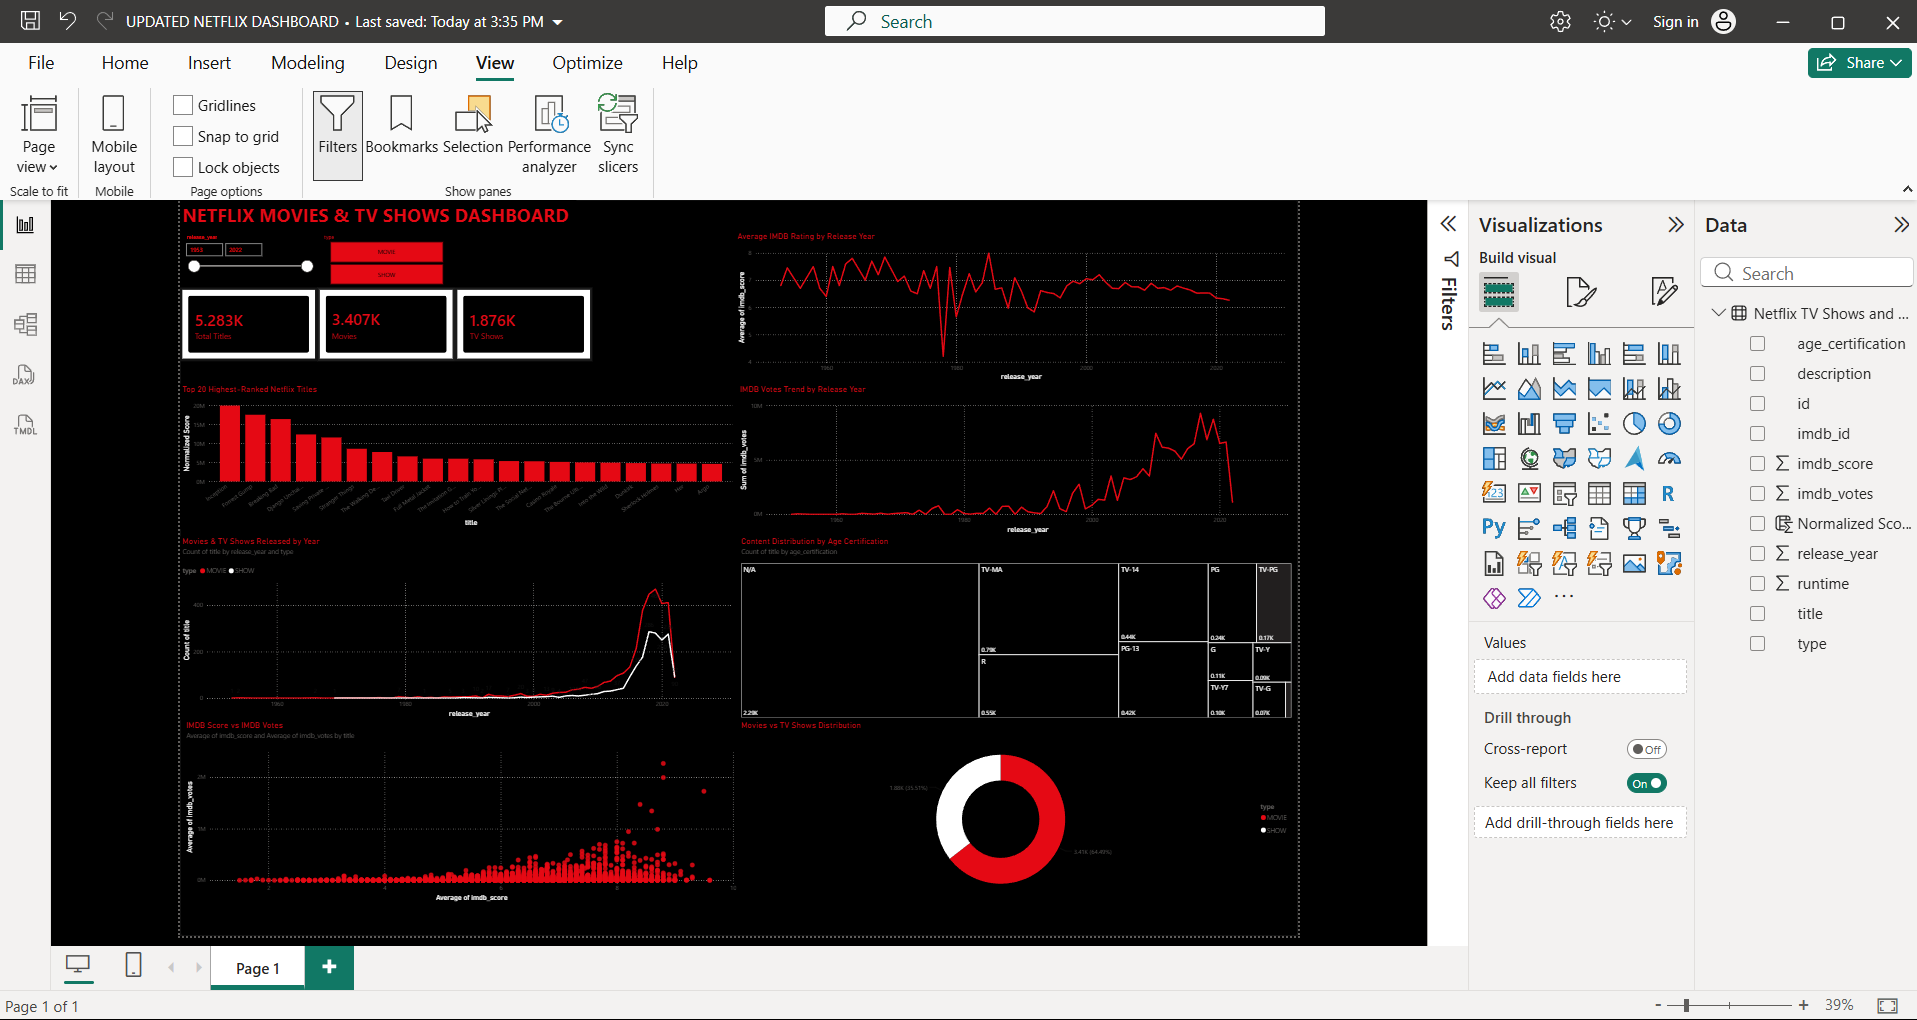

Layout of this report page (visuals, bound fields, positions):
{"tool":"powerbi","page":{"name":"Page 1","canvas":[2280,1500],"ordinal":0},"visuals":[{"type":"slicer","fields":{"Values":["Netflix TV Shows and Movies.release_year"]},"box":[0,62.5,279.9,115.3],"z":0},{"type":"slicer","fields":{"Values":["Netflix TV Shows and Movies.type"]},"box":[280,62.5,279.9,115.3],"z":1000},{"type":"columnChart","title":"Top 20 Highest-Ranked Netflix Titles","fields":{"Category":["Netflix TV Shows and Movies.title"],"Y":["Sum(Netflix TV Shows and Movies.Normalized Score)"]},"box":[0,374.2,1131,296],"z":2000},{"type":"lineChart","title":"Average IMDB Rating by Release Year","fields":{"Category":["Netflix TV Shows and Movies.release_year"],"Y":["Avg(Netflix TV Shows and Movies.imdb_score)"]},"box":[1131,63.4,1131.2,310],"z":3000},{"type":"lineChart","title":"IMDB Votes Trend by Release Year","fields":{"Category":["Netflix TV Shows and Movies.release_year"],"Y":["Sum(Netflix TV Shows and Movies.imdb_votes)"]},"box":[1135.2,374.2,1131.2,310],"z":4000},{"type":"textbox","box":[0,0,808.3,63.3],"z":5000},{"type":"cardVisual","fields":{"Data":["CountNonNull(Netflix TV Shows and Movies.title)"]},"box":[0,178.3,280,150],"z":6000},{"type":"cardVisual","fields":{"Data":["CountNonNull(Netflix TV Shows and Movies.title)"]},"box":[280,178.3,280,150],"z":7000},{"type":"cardVisual","fields":{"Data":["CountNonNull(Netflix TV Shows and Movies.title)"]},"box":[560,178.3,280,150],"z":8000},{"type":"donutChart","title":"Movies vs TV Shows Distribution","fields":{"Category":["Netflix TV Shows and Movies.type"],"Y":["CountNonNull(Netflix TV Shows and Movies.title)"]},"box":[1139.4,1059.1,1131,374.2],"z":9000},{"type":"treemap","title":"Content Distribution by Age Certification","fields":{"Group":["Netflix TV Shows and Movies.age_certification"],"Values":["CountNonNull(Netflix TV Shows and Movies.title)"]},"box":[1139.4,684.9,1131.5,374.8],"z":10000},{"type":"lineChart","title":"Movies & TV Shows Released by Year","fields":{"Category":["Netflix TV Shows and Movies.release_year"],"Series":["Netflix TV Shows and Movies.type"],"Y":["CountNonNull(Netflix TV Shows and Movies.title)"]},"box":[0,684.9,1131,374.2],"z":11000},{"type":"scatterChart","title":"IMDB Score vs IMDB Votes","fields":{"Category":["Netflix TV Shows and Movies.title"],"X":["Avg(Netflix TV Shows and Movies.imdb_score)"],"Y":["Avg(Netflix TV Shows and Movies.imdb_votes)"]},"box":[8.5,1059.1,1131.5,374.8],"z":12000}]}

Visuals, with their boxes on the page's 2280x1500 design canvas (x1, y1, x2, y2). These are canvas units, not pixel positions in the 1917x1020 screenshot, which may show the page scaled, cropped or inside an application window:
slicer - Netflix TV Shows and Movies.release_year: locate(0, 62, 280, 178)
slicer - Netflix TV Shows and Movies.type: locate(280, 62, 560, 178)
"Top 20 Highest-Ranked Netflix Titles" columnChart: locate(0, 374, 1131, 670)
"Average IMDB Rating by Release Year" lineChart: locate(1131, 63, 2262, 373)
"IMDB Votes Trend by Release Year" lineChart: locate(1135, 374, 2266, 684)
textbox: locate(0, 0, 808, 63)
cardVisual - CountNonNull(Netflix TV Shows and Movies.title): locate(0, 178, 280, 328)
cardVisual - CountNonNull(Netflix TV Shows and Movies.title): locate(280, 178, 560, 328)
cardVisual - CountNonNull(Netflix TV Shows and Movies.title): locate(560, 178, 840, 328)
"Movies vs TV Shows Distribution" donutChart: locate(1139, 1059, 2270, 1433)
"Content Distribution by Age Certification" treemap: locate(1139, 685, 2271, 1060)
"Movies & TV Shows Released by Year" lineChart: locate(0, 685, 1131, 1059)
"IMDB Score vs IMDB Votes" scatterChart: locate(8, 1059, 1140, 1434)
